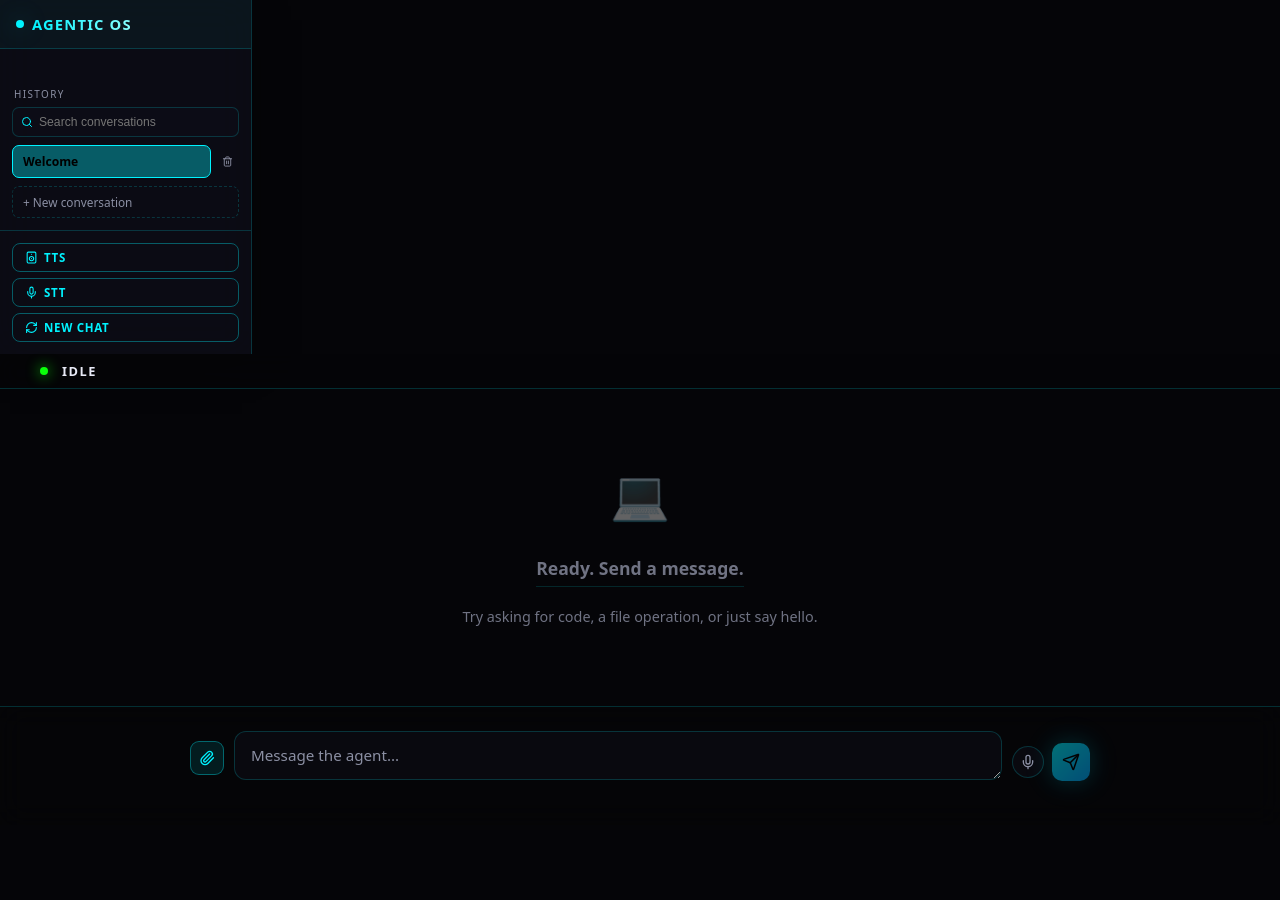
chat turn handling › keeps the user message and renders the streamed response as an assistant message
In the text box with placeholder "Message the agent...": [618, 755] box [234,731,1002,780], type "Hello"
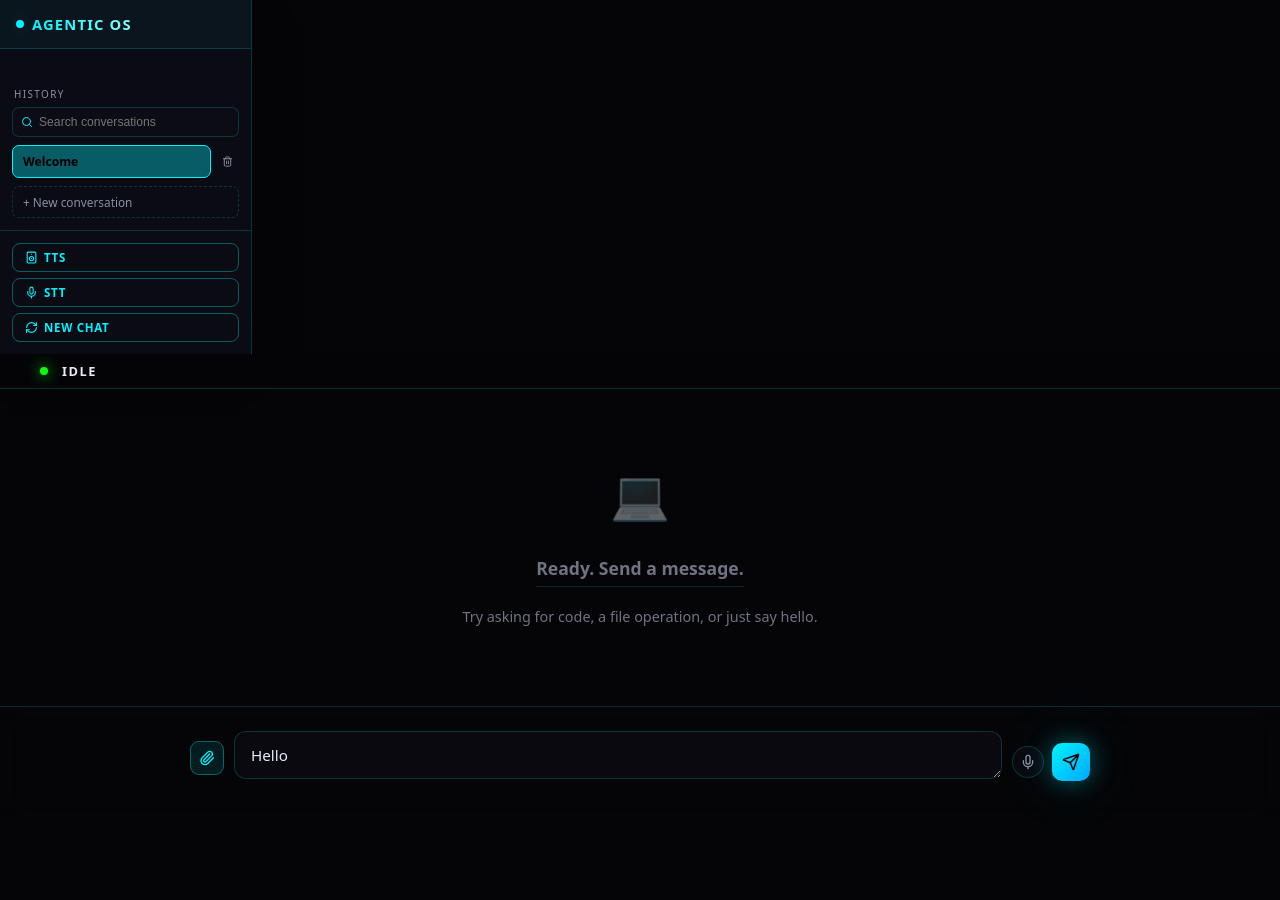
Click the button with class "send-btn": [1071, 762] box [1052,742,1090,780]
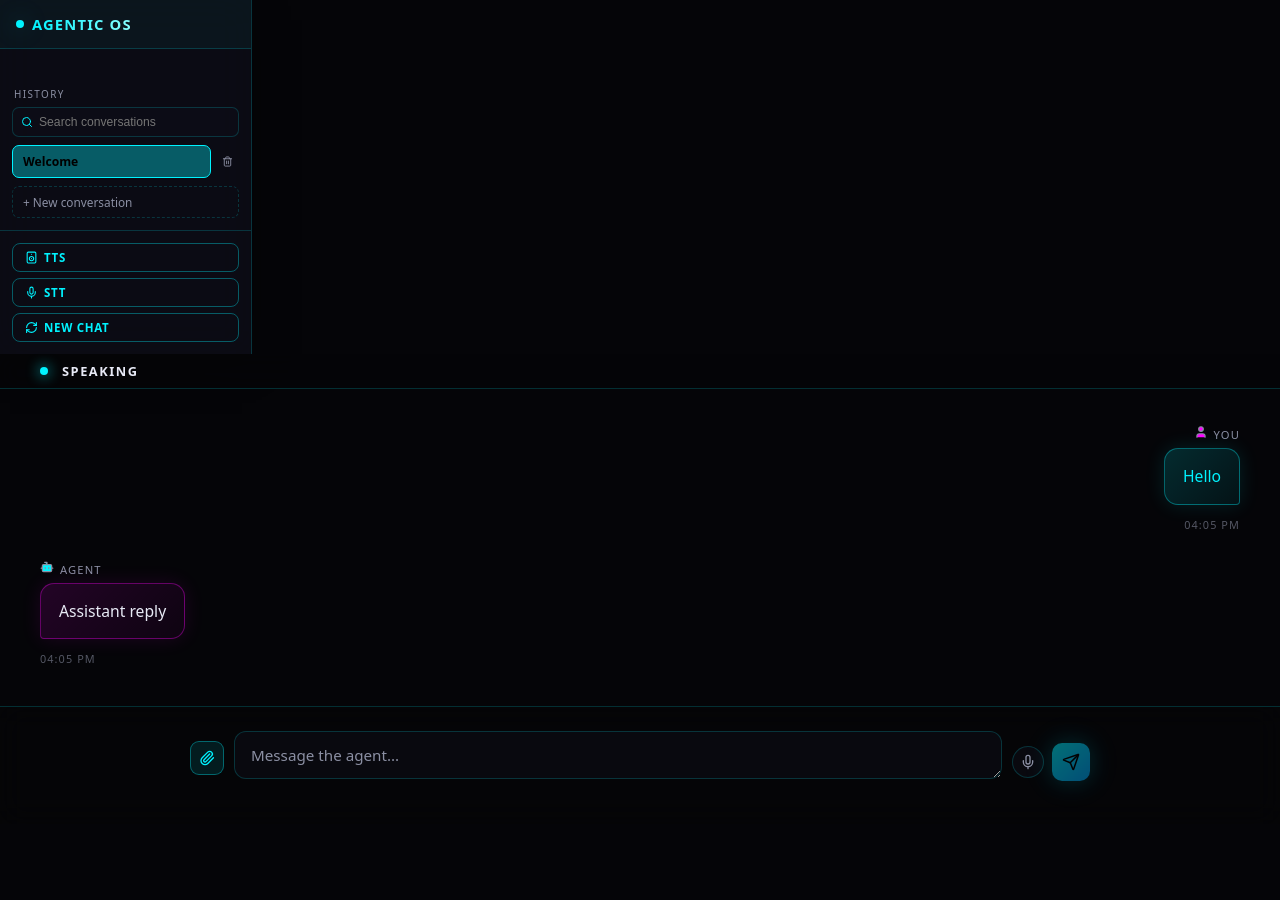
Expected: the text "Hello" is shown, [1183,463,1221,490]
Result: the text "Assistant reply" is shown at [59,598,166,624]
